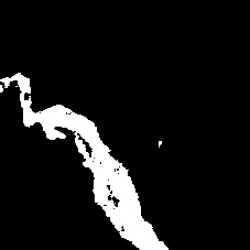crack: (3, 74, 168, 248)
